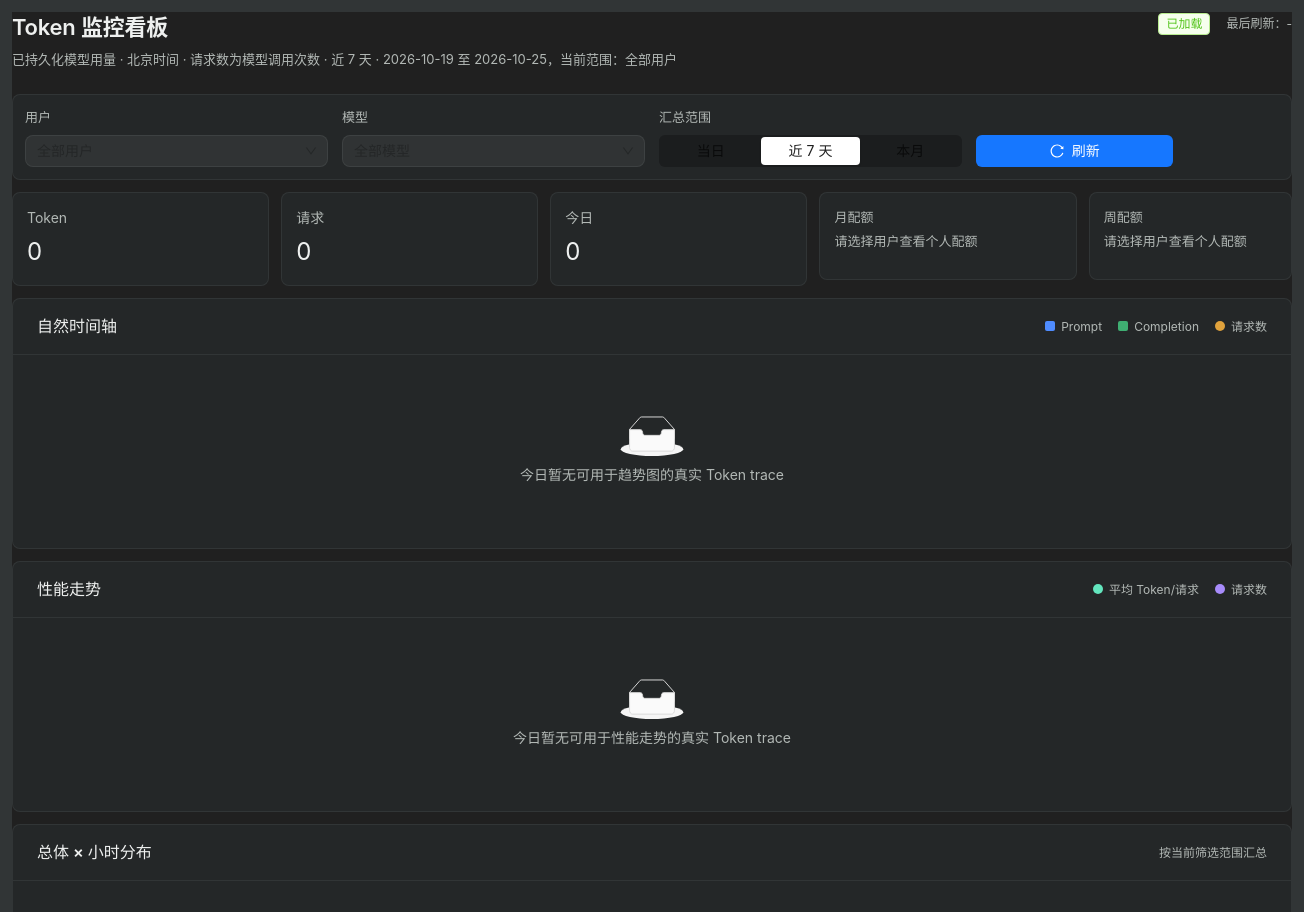
Test: 个人周月配额使用 Agent 实际消耗而非旧接口零用量
Press the mouse on the 1st dropdown at (168, 151), box [37, 136, 298, 166]
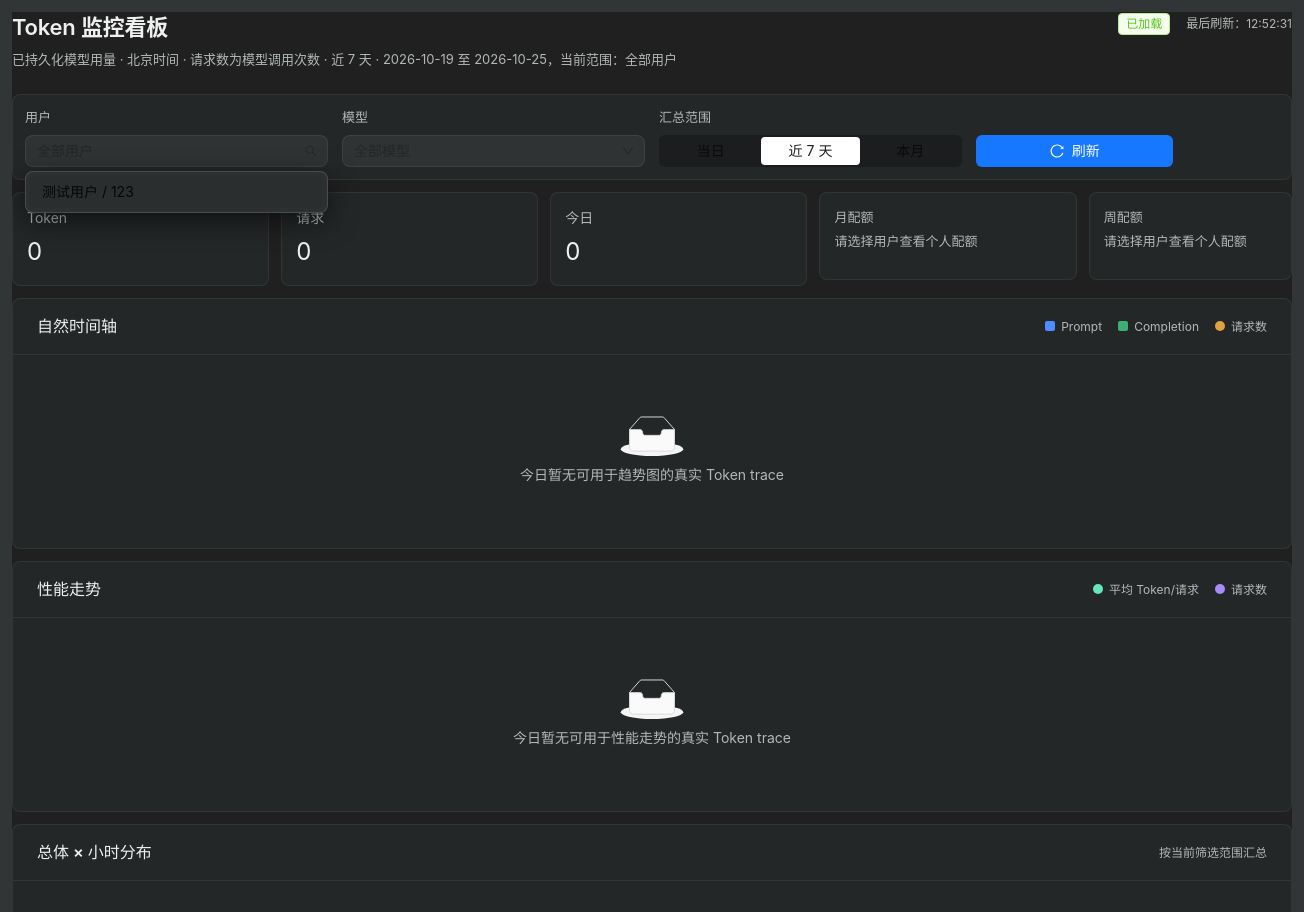
Click the text "测试用户 / 123" at (88, 192), box [42, 183, 134, 200]
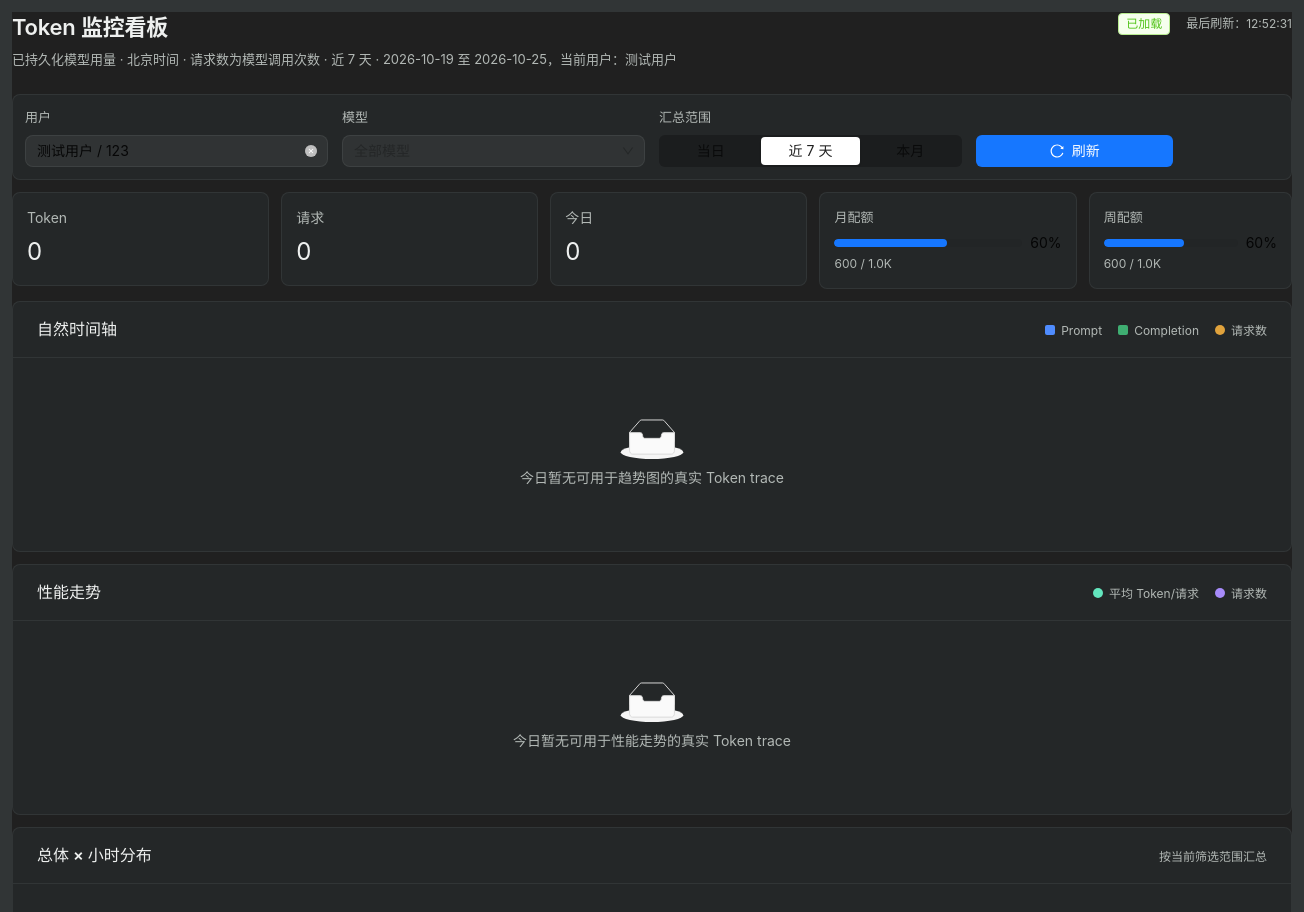
Expected: the text "600 / 1.0K" is shown 2 times, [834, 256, 892, 271]; [1104, 256, 1161, 271]
